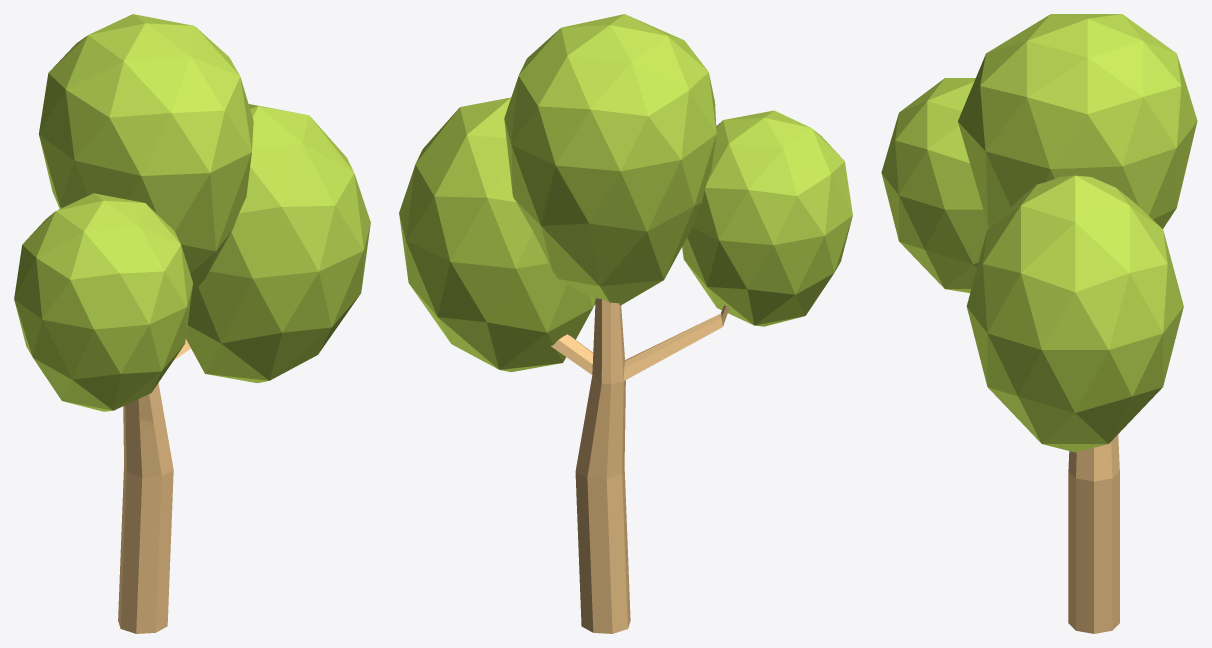
The model's file is tree_7.fbx.
3 renders of one model, left to right at view 1: azimuth 30°, elevation 25°; view 2: azimuth 150°, elevation 25°; view 3: azimuth 270°, elevation 25°, orthographic.
Parts seen in each view (by area): view 1: Cylinder.005; view 2: Cylinder.005; view 3: Cylinder.005.
Boxes of the visible parts, x1,y1,x2,y2 form: Cylinder.005: (14, 14, 370, 633); Cylinder.005: (399, 14, 852, 633); Cylinder.005: (881, 14, 1197, 633).
Size of the model in its own units: 1207 by 875 by 1844.
